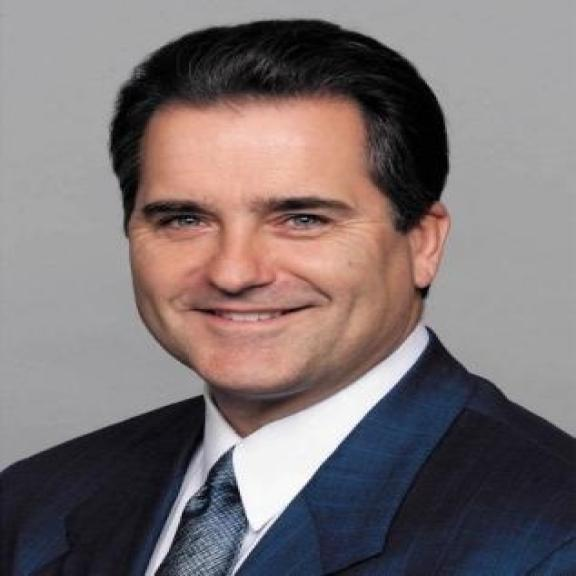face: (118, 34, 456, 399)
